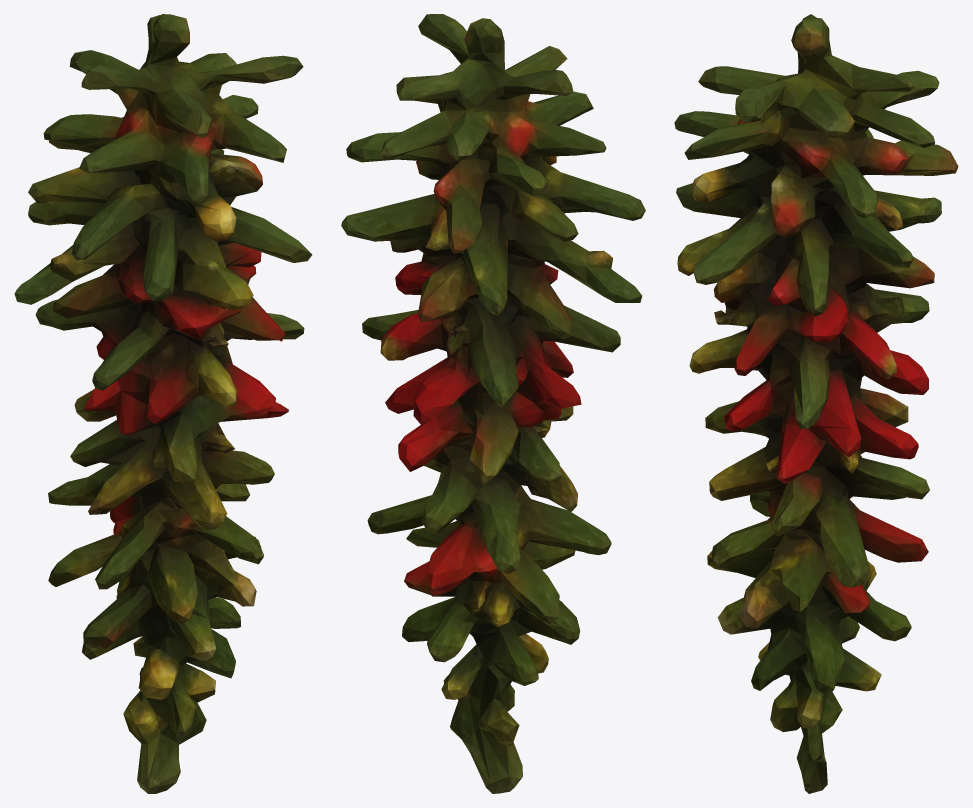
3 views of the same model, side by side, from view 1: azimuth 30°, elevation 25°; view 2: azimuth 150°, elevation 25°; view 3: azimuth 270°, elevation 25° (orthographic).
Visible parts, largest first — view 1: geometry_0; view 2: geometry_0; view 3: geometry_0.
Part boxes in pixels (box(x1,y1,x2,y2)): geometry_0: box(14, 14, 312, 793); geometry_0: box(341, 14, 645, 793); geometry_0: box(674, 14, 958, 793).
Bounding box in the file's own units: 0.3866 × 0.9994 × 0.3306.
Materials: 1 (1 with a texture image).
